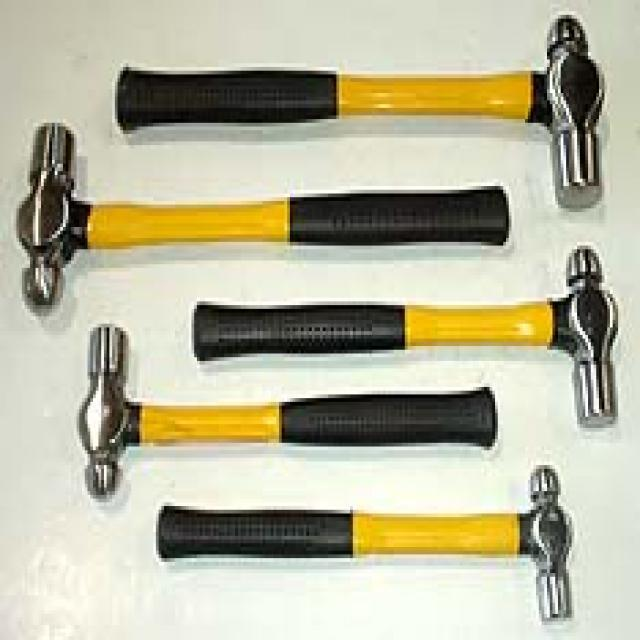hammer: (101, 4, 614, 221), (8, 109, 522, 322), (182, 236, 632, 443), (69, 316, 503, 504), (148, 457, 580, 632)
